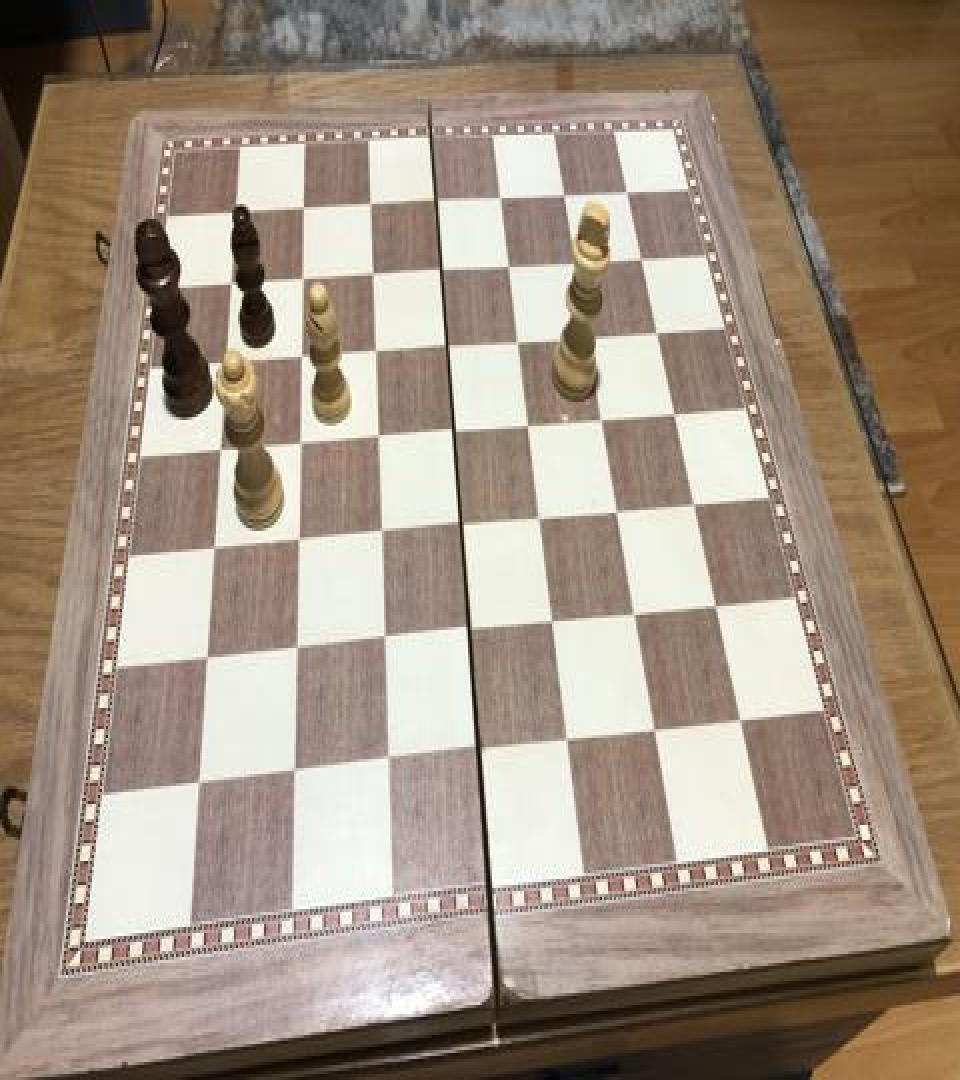xcorner: (371, 625, 395, 662), (642, 712, 666, 749), (613, 177, 637, 213), (551, 180, 575, 216), (488, 183, 512, 219), (423, 186, 447, 222), (357, 190, 381, 226), (290, 194, 314, 230), (222, 196, 246, 232), (628, 243, 652, 279), (563, 248, 587, 284), (496, 252, 520, 288), (428, 255, 452, 291), (289, 264, 313, 300), (218, 268, 242, 304), (644, 316, 668, 352), (575, 321, 599, 357), (506, 327, 530, 363), (434, 332, 458, 368), (362, 336, 386, 372), (288, 342, 312, 378), (213, 348, 237, 384), (661, 398, 685, 434), (589, 404, 613, 440), (516, 410, 540, 446), (441, 416, 465, 452), (365, 423, 389, 459), (287, 429, 311, 465), (207, 435, 231, 471), (681, 488, 705, 524), (605, 495, 629, 531), (528, 502, 552, 538), (448, 510, 472, 546), (368, 518, 392, 554), (285, 525, 309, 561), (201, 534, 225, 570), (703, 588, 727, 624), (622, 597, 646, 633), (540, 606, 564, 642), (457, 615, 481, 651), (283, 634, 307, 670), (193, 645, 217, 681), (727, 702, 751, 738), (555, 724, 579, 760), (466, 735, 490, 771), (375, 747, 399, 783), (281, 759, 305, 795), (185, 771, 209, 807), (360, 260, 384, 295)
